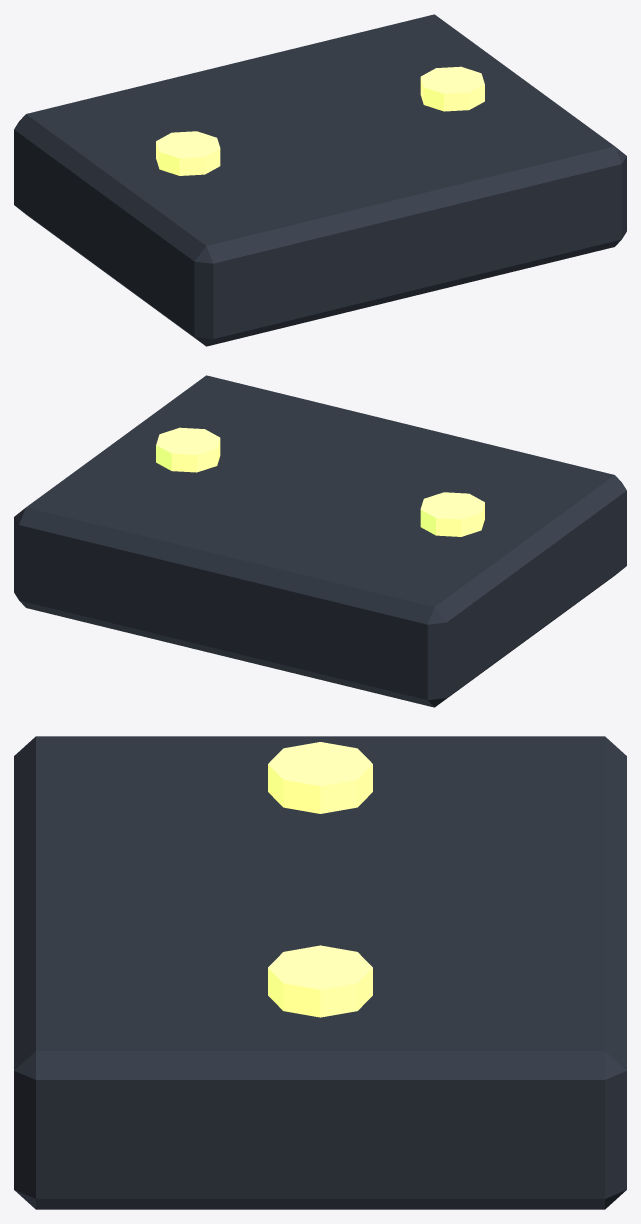
Rendered from street_023_seed11.glb.
The picture shows the model from 3 angles, top to bottom: view 1: azimuth 30°, elevation 25°; view 2: azimuth 150°, elevation 25°; view 3: azimuth 270°, elevation 25°; orthographic projection. The views are drawn at different scales.
Parts seen in each view (by area): view 1: street_023_seed11; view 2: street_023_seed11; view 3: street_023_seed11.
Boxes of the visible parts, box(x1,y1,x2,y2) form: street_023_seed11: box(14, 14, 626, 346); street_023_seed11: box(14, 375, 626, 707); street_023_seed11: box(14, 736, 626, 1209).
Bounding box in the file's own units: 1.8 × 0.47 × 1.4.
